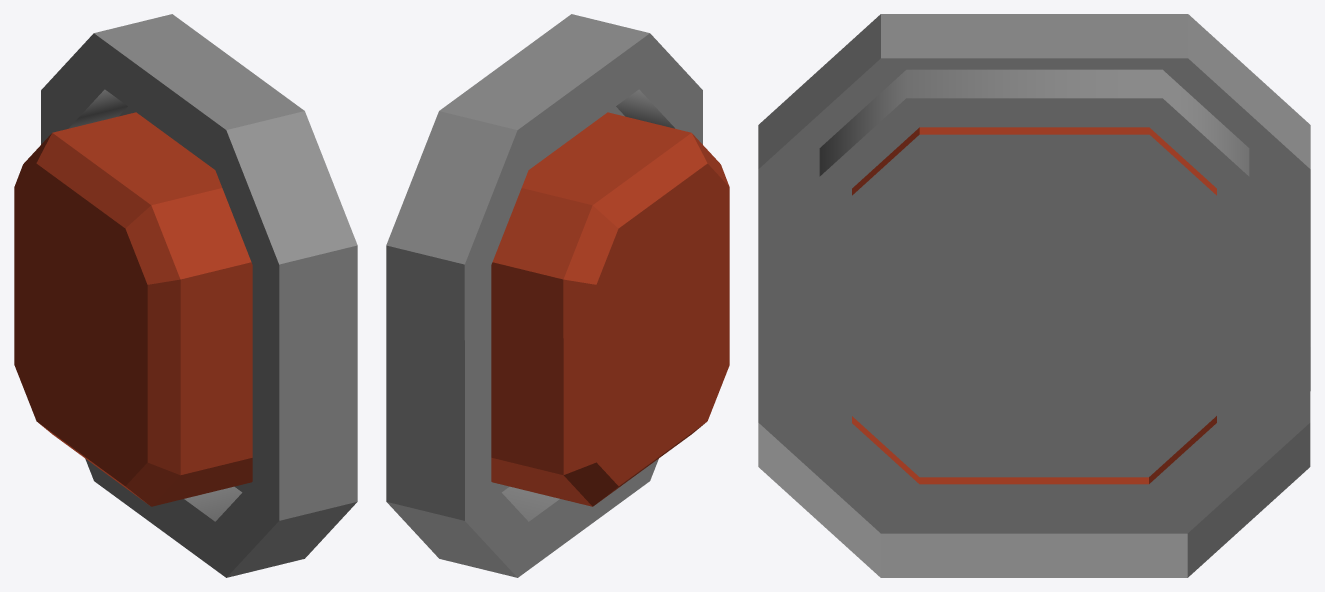
File: Button_1.fbx
3 views of the same model, side by side, from view 1: azimuth 30°, elevation 25°; view 2: azimuth 150°, elevation 25°; view 3: azimuth 270°, elevation 25° (orthographic). The views are drawn at different scales.
Visible parts, largest first — view 1: Button_1_Presser, Button_1_Base; view 2: Button_1_Presser, Button_1_Base; view 3: Button_1_Base, Button_1_Presser.
Part boxes in pixels (x1,y1,x2,y2): Button_1_Presser: [14, 112, 252, 506]; Button_1_Base: [41, 14, 357, 577]; Button_1_Presser: [491, 112, 729, 506]; Button_1_Base: [386, 14, 702, 577]; Button_1_Base: [758, 14, 1310, 577]; Button_1_Presser: [852, 127, 1216, 484].
Bounding box in the file's own units: 7.22 × 19.59 × 18.88.
